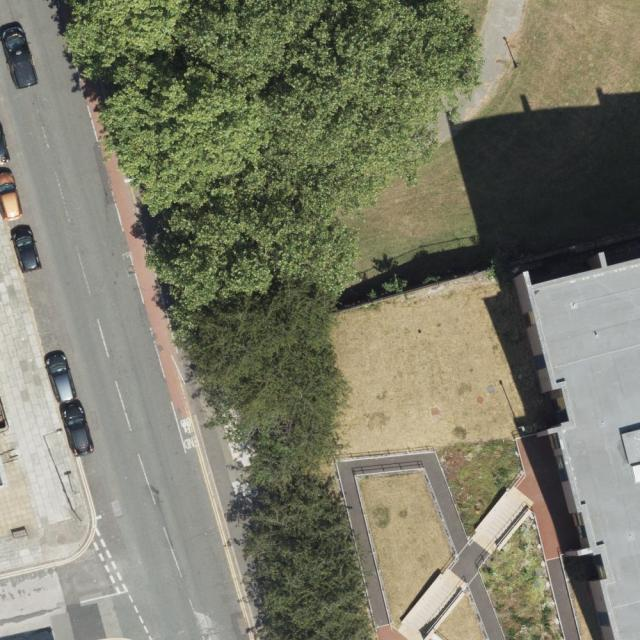roof: (520, 254, 640, 640)
